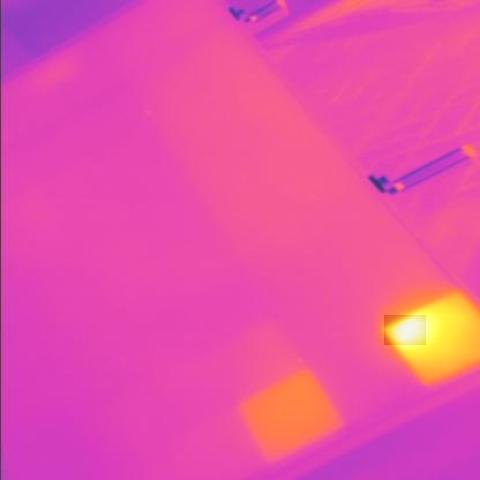fault: (384, 315, 426, 345)
